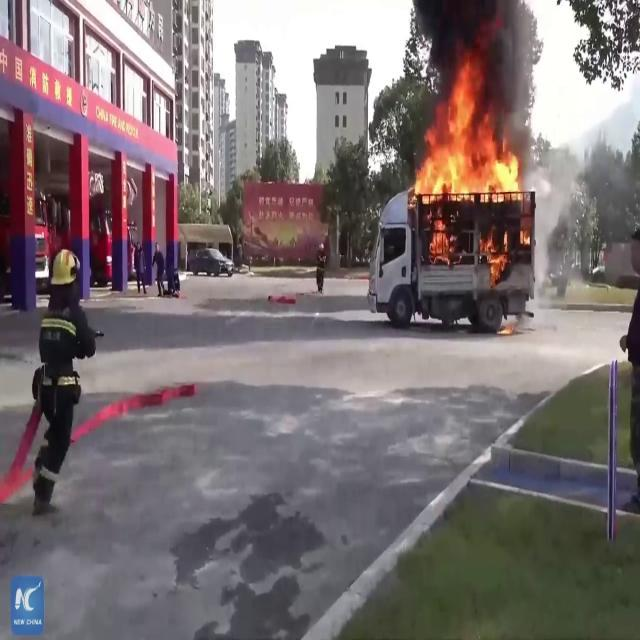Fire: (410, 66, 527, 270)
Smoke: (408, 0, 548, 125)
